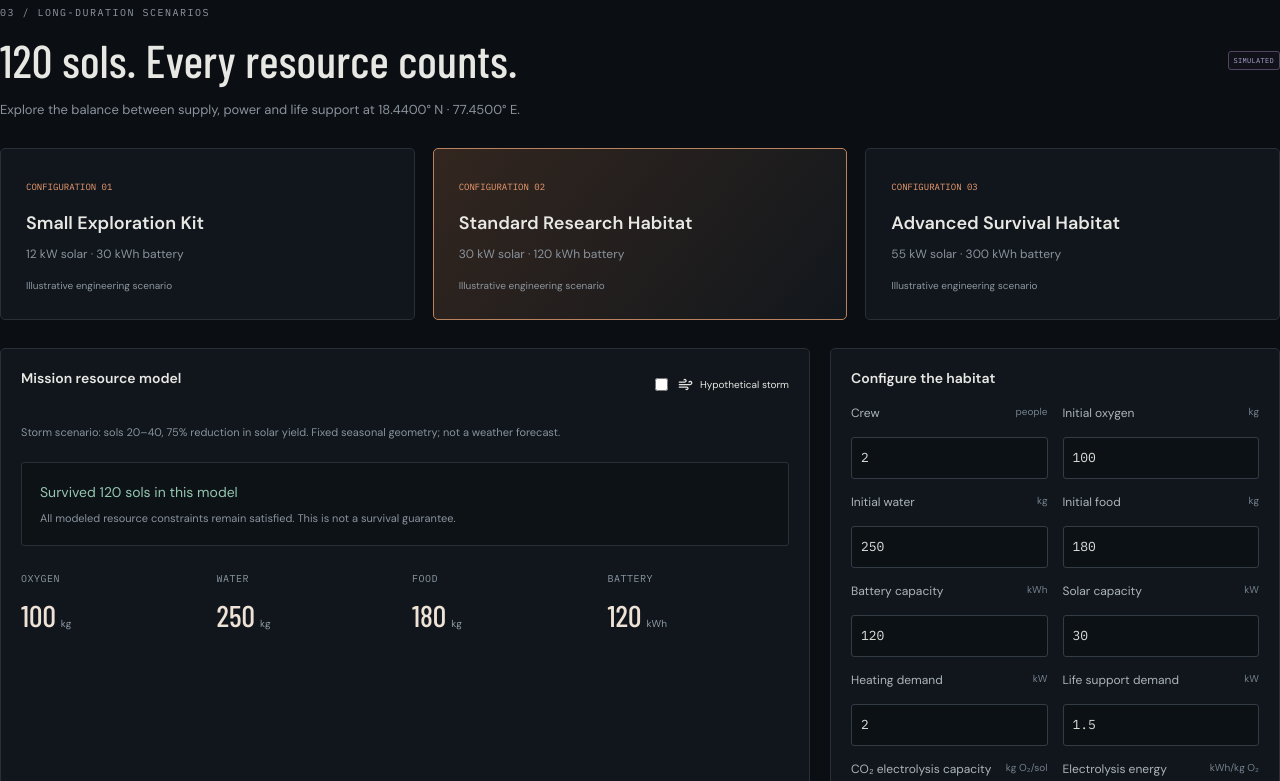
Test: allows temporarily clearing an input and restores its valid value on blur
Clear the number field labelled "Initial oxygen kg". click: (1161, 458)
box: [1062,437,1259,479]
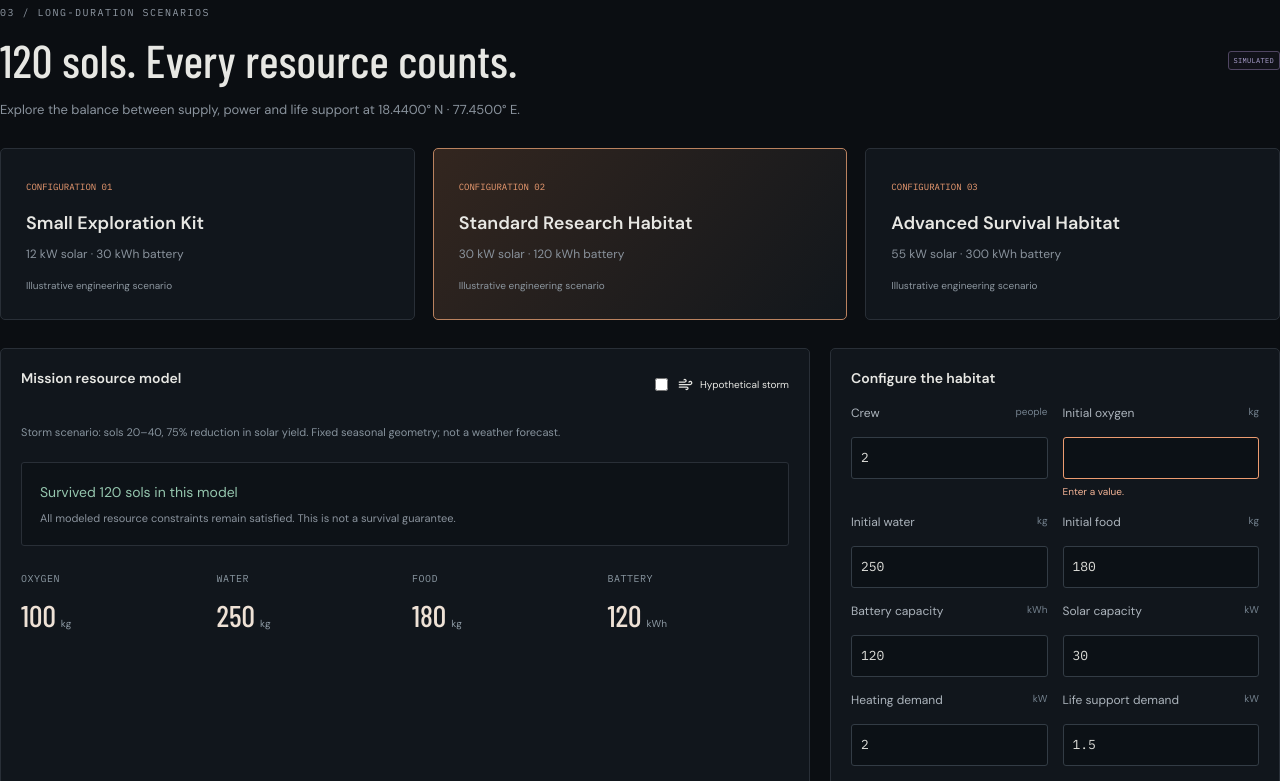
Leave the number field labelled "Initial oxygen kg Enter a value.", box [1062,437,1259,479]
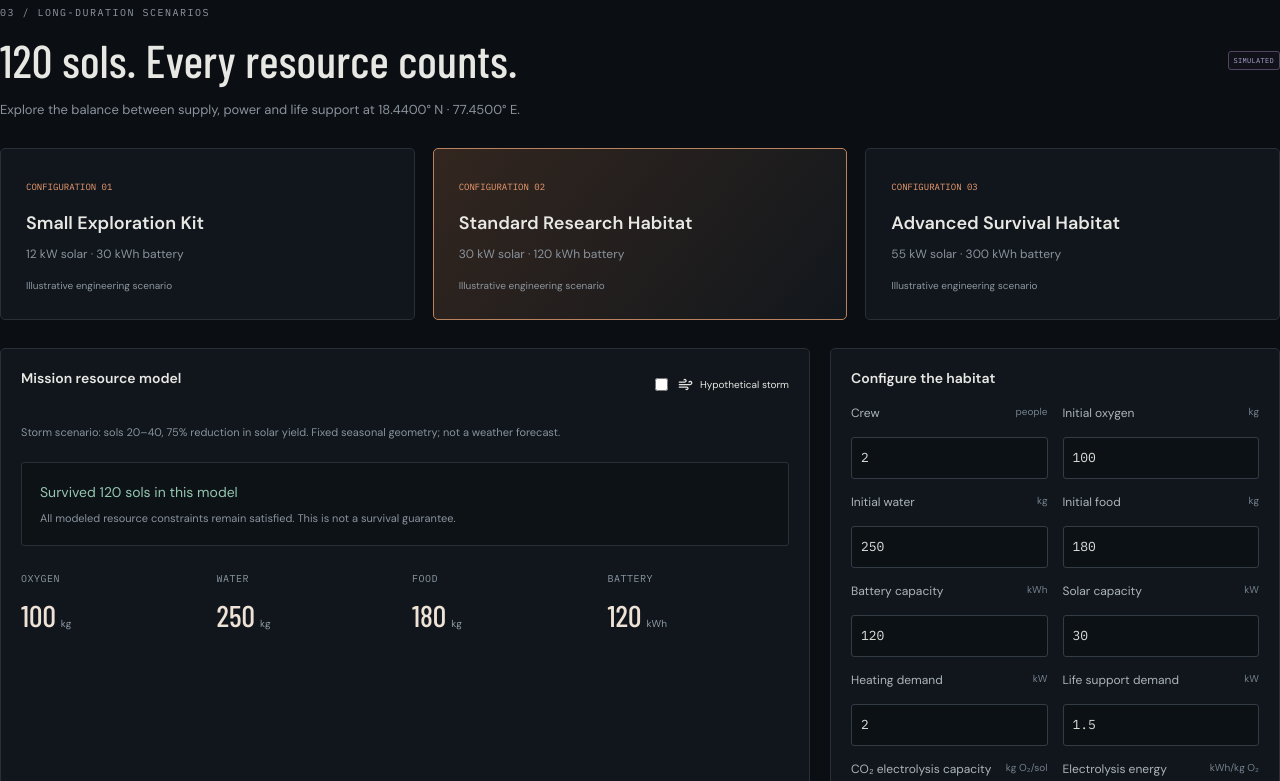
Expected: the number field labelled "Initial oxygen kg" holds "100", [1062,437,1259,479]
